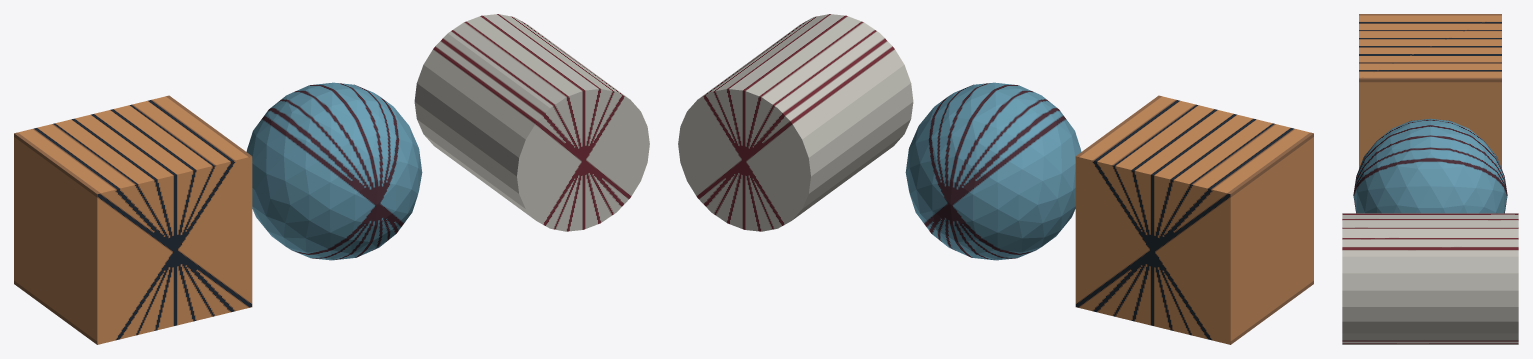
Rendered from material_study.glb.
3 renders of one model, left to right at view 1: azimuth 30°, elevation 25°; view 2: azimuth 150°, elevation 25°; view 3: azimuth 270°, elevation 25°, orthographic. The views are drawn at different scales.
Visible parts, largest first — view 1: Box, Cylinder, Sphere; view 2: Box, Cylinder, Sphere; view 3: Cylinder, Box, Sphere.
Part boxes in pixels (box(x1,y1,x2,y2)): Box: box(14, 95, 252, 344); Cylinder: box(414, 14, 649, 231); Sphere: box(246, 82, 422, 260); Box: box(1075, 95, 1313, 344); Cylinder: box(678, 14, 913, 231); Sphere: box(905, 82, 1081, 260); Cylinder: box(1342, 213, 1518, 344); Box: box(1359, 14, 1501, 168); Sphere: box(1353, 118, 1507, 213).
Bounding box in the file's own units: 2.45 × 0.7 × 0.8.
3 materials, 3 textured.
